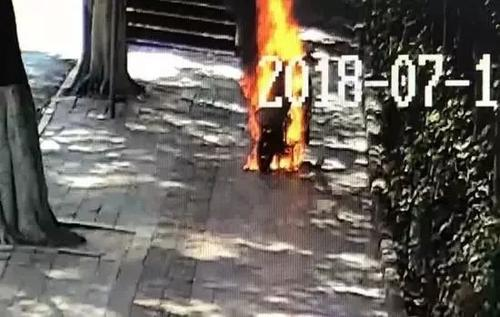fire: (236, 4, 319, 176)
